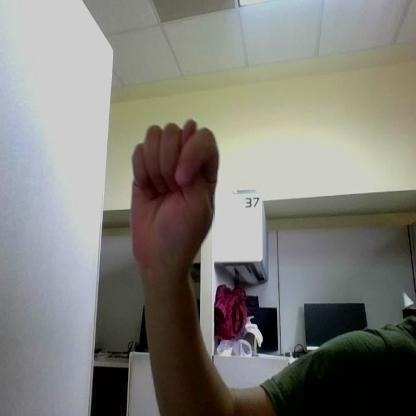T: (131, 120, 219, 260)
